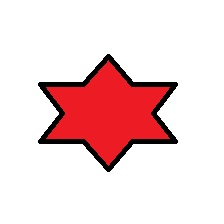star: (38, 54, 179, 173)
